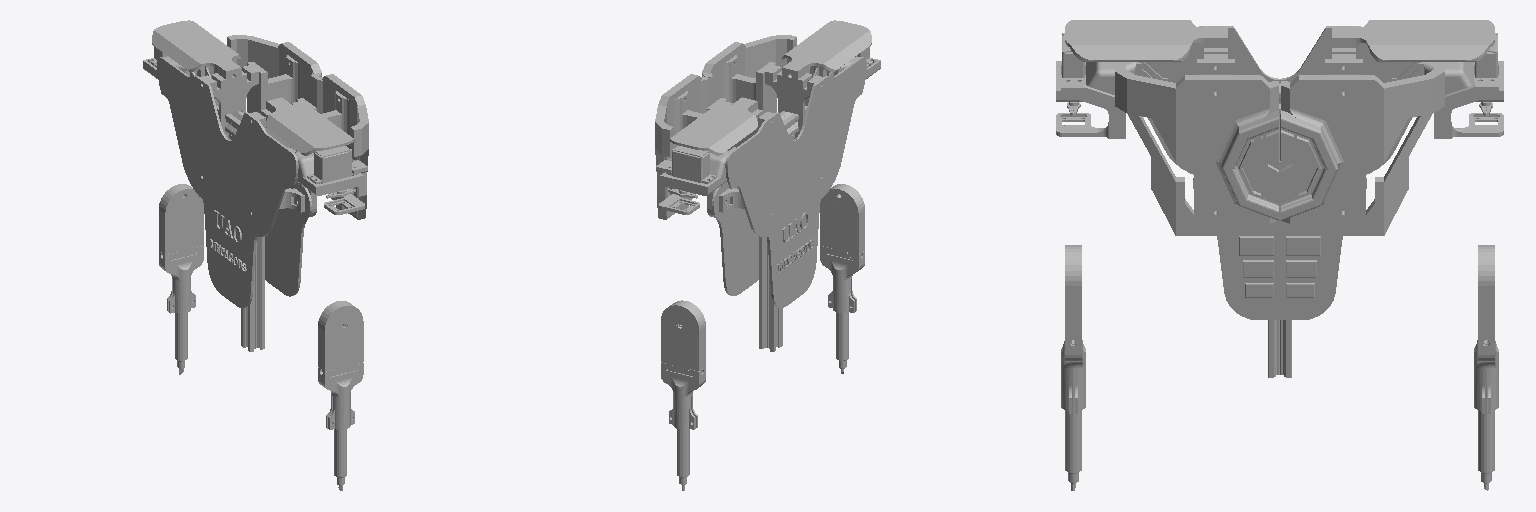
URDF robot description (new_urdf):
<?xml version="1.0" encoding="utf-8"?>
<!-- This URDF was automatically created by SolidWorks to URDF Exporter! Originally created by [author] ([email redacted]) 
     Commit Version: 1.6.0-4-g7f85cfe  Build Version: 1.6.7995.38578
     For more information, please see http://wiki.ros.org/sw_urdf_exporter -->
<robot
  name="new_urdf">
  <link
    name="base_link">
    <inertial>
      <origin
        xyz="0.0352403998115288 -0.00193856893882958 0.244321687293213"
        rpy="0 0 0" />
      <mass
        value="1.79096310966132" />
      <inertia
        ixx="0.00405760471142835"
        ixy="2.12937141956187E-06"
        ixz="3.3130303814979E-05"
        iyy="0.00267025475463101"
        iyz="-3.27699598315326E-07"
        izz="0.00229351602428316" />
    </inertial>
    <visual>
      <origin
        xyz="0 0 0"
        rpy="0 0 0" />
      <geometry>
        <mesh
          filename="package://robot/meshes/base_link.STL" />
      </geometry>
      <material
        name="">
        <color
          rgba="0.752941176470588 0.752941176470588 0.752941176470588 1" />
      </material>
    </visual>
    <collision>
      <origin
        xyz="0 0 0"
        rpy="0 0 0" />
      <geometry>
        <mesh
          filename="package://robot/meshes/base_link.STL" />
      </geometry>
    </collision>
  </link>
  <link
    name="link1">
    <inertial>
      <origin
        xyz="0.00498327717775757 0.0193666674481396 -0.0208319699436081"
        rpy="0 0 0" />
      <mass
        value="0.295860371929211" />
      <inertia
        ixx="0.000180259743700536"
        ixy="6.44638953623284E-09"
        ixz="9.63548170761076E-06"
        iyy="0.000222094785214239"
        iyz="1.23138835073157E-07"
        izz="0.000156316536855164" />
    </inertial>
    <visual>
      <origin
        xyz="0 0 0"
        rpy="0 0 0" />
      <geometry>
        <mesh
          filename="package://robot/meshes/link1.STL" />
      </geometry>
      <material
        name="">
        <color
          rgba="0.752941176470588 0.752941176470588 0.752941176470588 1" />
      </material>
    </visual>
    <collision>
      <origin
        xyz="0 0 0"
        rpy="0 0 0" />
      <geometry>
        <mesh
          filename="package://robot/meshes/link1.STL" />
      </geometry>
    </collision>
  </link>
  <joint
    name="joint1"
    type="revolute">
    <origin
      xyz="0.00995 -0.17755 0.25365"
      rpy="0 0 0" />
    <parent
      link="base_link" />
    <child
      link="link1" />
    <axis
      xyz="0 0 -1" />
    <limit
      lower="-3.14"
      upper="3.14"
      effort="200"
      velocity="3" />
  </joint>
  <link
    name="link2">
    <inertial>
      <origin
        xyz="-0.000340321831924395 -0.00038973697772049 -0.0520549751495829"
        rpy="0 0 0" />
      <mass
        value="0.149963427564102" />
      <inertia
        ixx="0.000183592447078298"
        ixy="8.28241022079025E-12"
        ixz="5.04253434467308E-09"
        iyy="0.000209336531842732"
        iyz="1.86610556551535E-06"
        izz="3.28235947222695E-05" />
    </inertial>
    <visual>
      <origin
        xyz="0 0 0"
        rpy="0 0 0" />
      <geometry>
        <mesh
          filename="package://robot/meshes/link2.STL" />
      </geometry>
      <material
        name="">
        <color
          rgba="0.752941176470588 0.752941176470588 0.752941176470588 1" />
      </material>
    </visual>
    <collision>
      <origin
        xyz="0 0 0"
        rpy="0 0 0" />
      <geometry>
        <mesh
          filename="package://robot/meshes/link2.STL" />
      </geometry>
    </collision>
  </link>
  <joint
    name="joint2"
    type="revolute">
    <origin
      xyz="0 -0.0154 -0.0559"
      rpy="0 0 0" />
    <parent
      link="link1" />
    <child
      link="link2" />
    <axis
      xyz="0 1 0" />
    <limit
      lower="-3.14"
      upper="3.14"
      effort="200"
      velocity="3" />
  </joint>
  <link
    name="link3">
    <inertial>
      <origin
        xyz="1.2276E-07 -0.0016186 -0.057031"
        rpy="0 0 0" />
      <mass
        value="0.13616" />
      <inertia
        ixx="7.4786E-05"
        ixy="1.4369E-10"
        ixz="9.1386E-10"
        iyy="9.2185E-05"
        iyz="2.2914E-07"
        izz="2.2865E-05" />
    </inertial>
    <visual>
      <origin
        xyz="0 0 0"
        rpy="0 0 0" />
      <geometry>
        <mesh
          filename="package://robot/meshes/link3.STL" />
      </geometry>
      <material
        name="">
        <color
          rgba="0.75294 0.75294 0.75294 1" />
      </material>
    </visual>
    <collision>
      <origin
        xyz="0 0 0"
        rpy="0 0 0" />
      <geometry>
        <mesh
          filename="package://robot/meshes/link3.STL" />
      </geometry>
    </collision>
  </link>
  <joint
    name="joint3"
    type="revolute">
    <origin
      xyz="0 0.017 -0.09955"
      rpy="0 0 0" />
    <parent
      link="link2" />
    <child
      link="link3" />
    <axis
      xyz="0 -1 0" />
    <limit
      lower="-3.14"
      upper="3.14"
      effort="200"
      velocity="3" />
  </joint>
  <link
    name="link4">
    <inertial>
      <origin
        xyz="0.00419043319213264 -0.0191704255225077 -0.020444114512171"
        rpy="0 0 0" />
      <mass
        value="0.28593190191178" />
      <inertia
        ixx="0.000177533812769103"
        ixy="1.36274634729717E-07"
        ixz="1.21200199346044E-05"
        iyy="0.000215348566469664"
        iyz="-2.26454170217403E-08"
        izz="0.000151424209768655" />
    </inertial>
    <visual>
      <origin
        xyz="0 0 0"
        rpy="0 0 0" />
      <geometry>
        <mesh
          filename="package://robot/meshes/link4.STL" />
      </geometry>
      <material
        name="">
        <color
          rgba="0.752941176470588 0.752941176470588 0.752941176470588 1" />
      </material>
    </visual>
    <collision>
      <origin
        xyz="0 0 0"
        rpy="0 0 0" />
      <geometry>
        <mesh
          filename="package://robot/meshes/link4.STL" />
      </geometry>
    </collision>
  </link>
  <joint
    name="joint4"
    type="revolute">
    <origin
      xyz="0.00995 0.17755 0.25365"
      rpy="0 0 0" />
    <parent
      link="base_link" />
    <child
      link="link4" />
    <axis
      xyz="0 0 -1" />
    <limit
      lower="-3.14"
      upper="3.14"
      effort="200"
      velocity="3" />
  </joint>
  <link
    name="link5">
    <inertial>
      <origin
        xyz="0.000340321831860155 0.000389736977768645 -0.0520549751487307"
        rpy="0 0 0" />
      <mass
        value="0.149963427561676" />
      <inertia
        ixx="0.000183592447077726"
        ixy="8.28239172928839E-12"
        ixz="-5.04253451928812E-09"
        iyy="0.000209336531842107"
        iyz="-1.86610556545494E-06"
        izz="3.28235947222027E-05" />
    </inertial>
    <visual>
      <origin
        xyz="0 0 0"
        rpy="0 0 0" />
      <geometry>
        <mesh
          filename="package://robot/meshes/link5.STL" />
      </geometry>
      <material
        name="">
        <color
          rgba="0.752941176470588 0.752941176470588 0.752941176470588 1" />
      </material>
    </visual>
    <collision>
      <origin
        xyz="0 0 0"
        rpy="0 0 0" />
      <geometry>
        <mesh
          filename="package://robot/meshes/link5.STL" />
      </geometry>
    </collision>
  </link>
  <joint
    name="joint5"
    type="revolute">
    <origin
      xyz="0 0.0154 -0.0559"
      rpy="0 0 0" />
    <parent
      link="link4" />
    <child
      link="link5" />
    <axis
      xyz="0 1 0" />
    <limit
      lower="-3.14"
      upper="3.14"
      effort="200"
      velocity="3" />
  </joint>
  <link
    name="link6">
    <inertial>
      <origin
        xyz="-1.33821760395225E-07 0.00161858205668938 -0.0570305226452938"
        rpy="0 0 0" />
      <mass
        value="0.136158125277113" />
      <inertia
        ixx="7.4786412779994E-05"
        ixy="1.42932928820051E-10"
        ixz="-1.01332567226857E-09"
        iyy="9.21854584482063E-05"
        iyz="-2.29245663693843E-07"
        izz="2.28646686168041E-05" />
    </inertial>
    <visual>
      <origin
        xyz="0 0 0"
        rpy="0 0 0" />
      <geometry>
        <mesh
          filename="package://robot/meshes/link6.STL" />
      </geometry>
      <material
        name="">
        <color
          rgba="0.752941176470588 0.752941176470588 0.752941176470588 1" />
      </material>
    </visual>
    <collision>
      <origin
        xyz="0 0 0"
        rpy="0 0 0" />
      <geometry>
        <mesh
          filename="package://robot/meshes/link6.STL" />
      </geometry>
    </collision>
  </link>
  <joint
    name="joint6"
    type="revolute">
    <origin
      xyz="0 -0.017 -0.09955"
      rpy="0 0 0" />
    <parent
      link="link5" />
    <child
      link="link6" />
    <axis
      xyz="0 -1 0" />
    <limit
      lower="-3.14"
      upper="3.14"
      effort="200"
      velocity="3" />
  </joint>
</robot>

--- Facts derived from the render (not from the file) ---
Views: 3 orthographic renders of the robot side by side, from view 1: azimuth 30°, elevation 25°; view 2: azimuth 150°, elevation 25°; view 3: azimuth 270°, elevation 25°.
Robot: new_urdf — 7 links, 6 joints (6 revolute); root link base_link; default pose: all joints at 0.
Visible links, largest first — view 1: base_link, link3, link6; view 2: base_link, link6, link3; view 3: base_link, link3, link6.
Link boxes in pixels (x1,y1,x2,y2): base_link: (143,20,368,351); link3: (318,301,363,490); link6: (159,184,203,374); base_link: (655,20,880,351); link6: (661,300,705,490); link3: (820,184,864,373); base_link: (1056,20,1503,377); link3: (1061,245,1085,490); link6: (1474,245,1498,490).
Bounding box of the posed robot: 0.1422 × 0.3862 × 0.4302 m (x, y, z).
3 mesh visuals loaded from 7 distinct referenced files (3 binary STL); not drawn: 4 (reference not matched to a file when rendering).